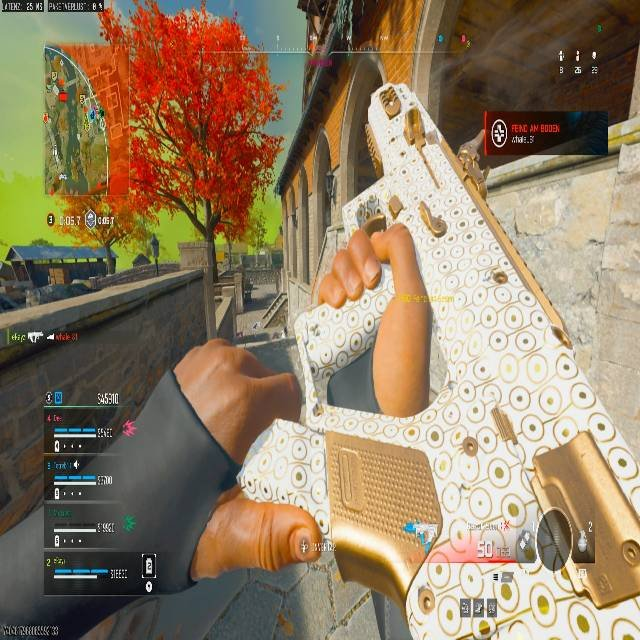player: (315, 173, 442, 417)
